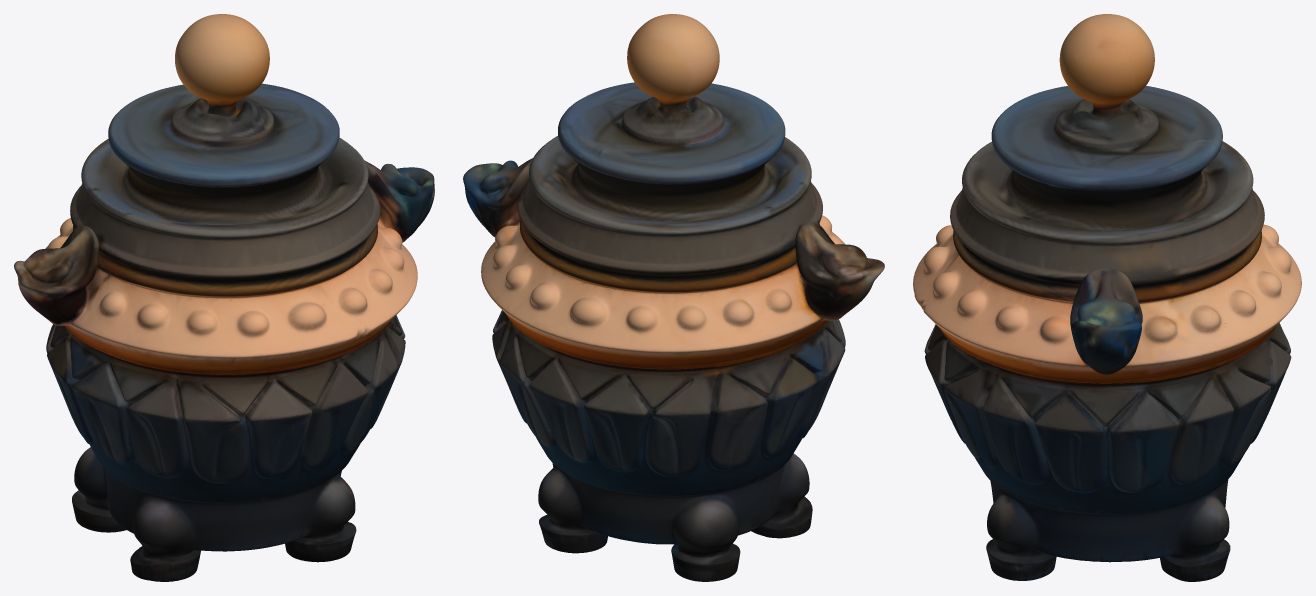
The model's file is jarra_sabana3.glb.
3 renders of one model, left to right at view 1: azimuth 30°, elevation 25°; view 2: azimuth 150°, elevation 25°; view 3: azimuth 270°, elevation 25°, orthographic. The views are drawn at different scales.
Parts seen in each view (by area): view 1: material.002; view 2: material.002; view 3: material.002.
Boxes of the visible parts, bbox=[...] form: material.002: bbox=[14, 14, 434, 581]; material.002: bbox=[463, 14, 884, 581]; material.002: bbox=[913, 14, 1301, 581].
Bounding box in the file's own units: 0.2616 × 0.3095 × 0.2094.
1 material, 1 textured.
